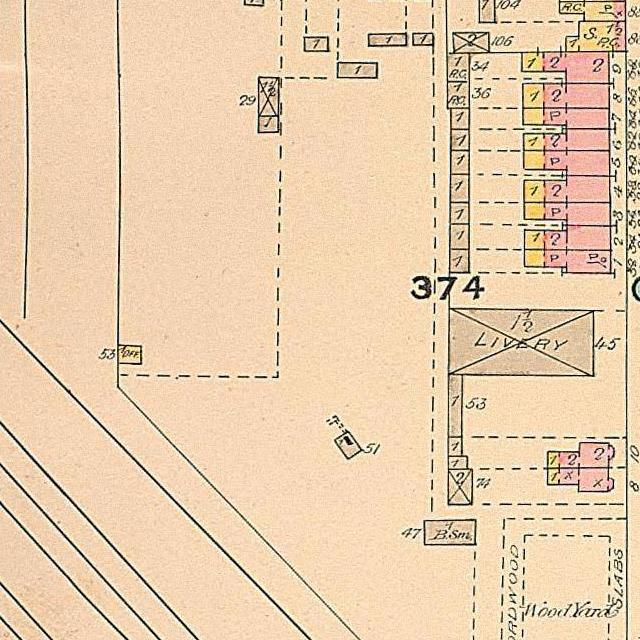building-footprints: (449, 309, 594, 375), (522, 51, 609, 83), (524, 175, 610, 202), (524, 150, 610, 176), (523, 83, 609, 108), (524, 225, 610, 250), (524, 202, 610, 226), (525, 249, 611, 273), (523, 108, 609, 129), (566, 21, 626, 51), (524, 129, 609, 150), (548, 442, 614, 468), (547, 468, 614, 491), (559, 1, 626, 21), (424, 520, 475, 544), (448, 53, 469, 108), (448, 374, 462, 437), (448, 469, 473, 504), (259, 77, 278, 116), (335, 431, 362, 458), (453, 32, 489, 52), (338, 62, 377, 78), (450, 223, 469, 249), (451, 174, 469, 201), (450, 249, 469, 272), (451, 150, 469, 174), (118, 345, 141, 363), (369, 34, 406, 45), (450, 202, 469, 223), (451, 129, 469, 150), (451, 108, 469, 129), (479, 0, 495, 22), (304, 37, 328, 50), (259, 116, 278, 132), (448, 436, 462, 456), (449, 456, 467, 469), (413, 33, 433, 44), (245, 0, 263, 5)
